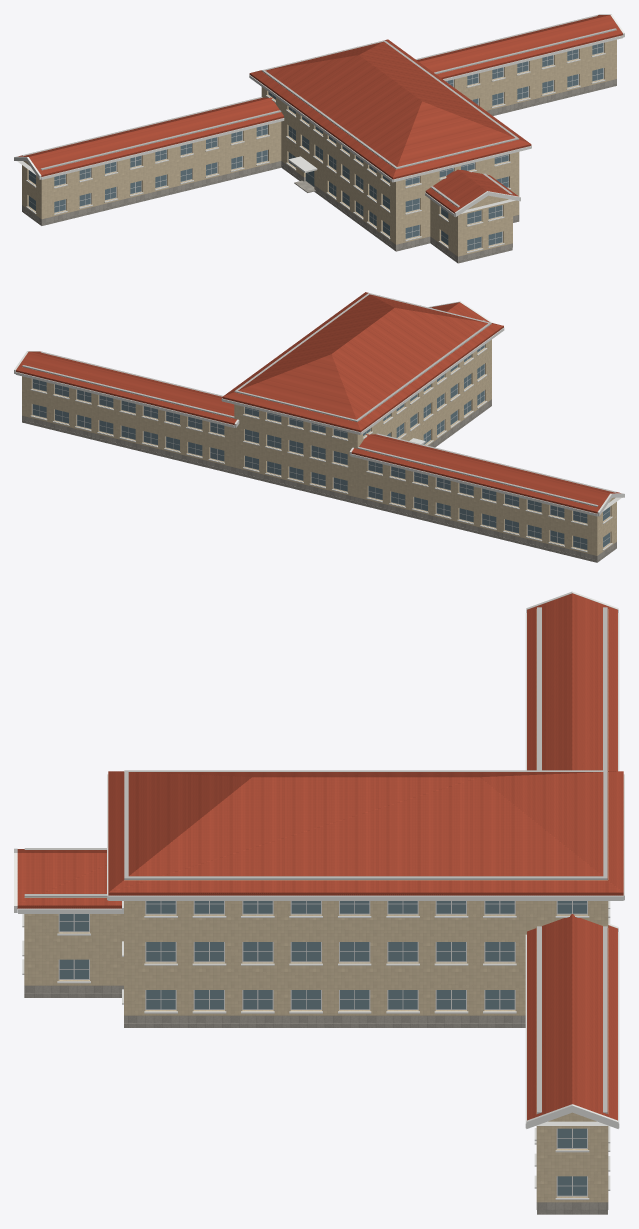
3 views of the same model, one above another, from view 1: azimuth 30°, elevation 25°; view 2: azimuth 150°, elevation 25°; view 3: azimuth 270°, elevation 25° (orthographic). The views are drawn at different scales.
Visible parts, largest first — view 1: special3__roof, special3__tile, special3__glass, special3__trim, special3__stone, special3__slab, special3__frame; view 2: special3__roof, special3__tile, special3__glass, special3__trim, special3__stone, special3__slab, special3__frame; view 3: special3__roof, special3__tile, special3__glass, special3__trim, special3__slab, special3__stone, special3__frame.
Part boxes in pixels (bbox=[...]): special3__roof: bbox=[18, 15, 622, 213]; special3__tile: bbox=[22, 39, 616, 256]; special3__glass: bbox=[29, 43, 603, 250]; special3__trim: bbox=[14, 14, 624, 253]; special3__stone: bbox=[22, 79, 616, 263]; special3__slab: bbox=[22, 15, 616, 207]; special3__frame: bbox=[28, 43, 603, 250]; special3__roof: bbox=[16, 292, 620, 513]; special3__tile: bbox=[22, 339, 616, 555]; special3__glass: bbox=[33, 345, 609, 549]; special3__trim: bbox=[14, 301, 624, 552]; special3__stone: bbox=[22, 399, 616, 562]; special3__slab: bbox=[22, 293, 616, 506]; special3__frame: bbox=[32, 345, 610, 550]; special3__roof: bbox=[17, 593, 623, 1120]; special3__tile: bbox=[24, 609, 608, 1202]; special3__glass: bbox=[59, 901, 586, 1195]; special3__trim: bbox=[14, 591, 624, 1199]; special3__slab: bbox=[24, 607, 607, 1113]; special3__stone: bbox=[24, 985, 608, 1214]; special3__frame: bbox=[58, 901, 587, 1196].
Size of the model in its own units: 85.46 by 15.24 by 42.92.
8 materials, 3 textured.
